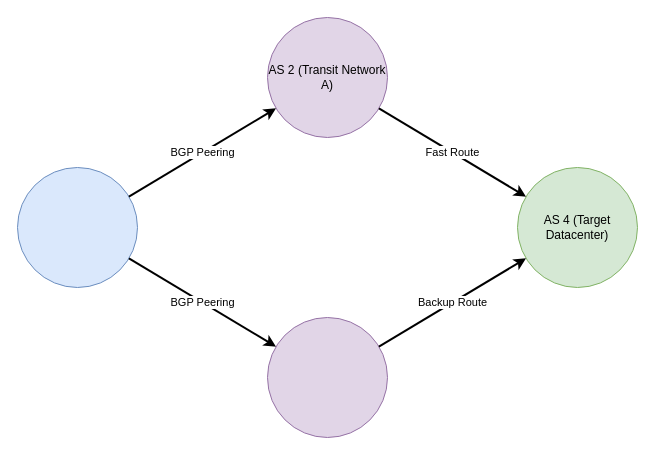
Some shapes in this 655 by 455 pixel diagram are drawn without their labels. The shapes that lost their labels are listed below. From the top down, each one's box as (x1, y1, x2, y2) in pixels, then its label:
(16, 166, 138, 288): AS 1 (Your Home ISP)
(266, 316, 388, 438): AS 3 (Transit Network B)
